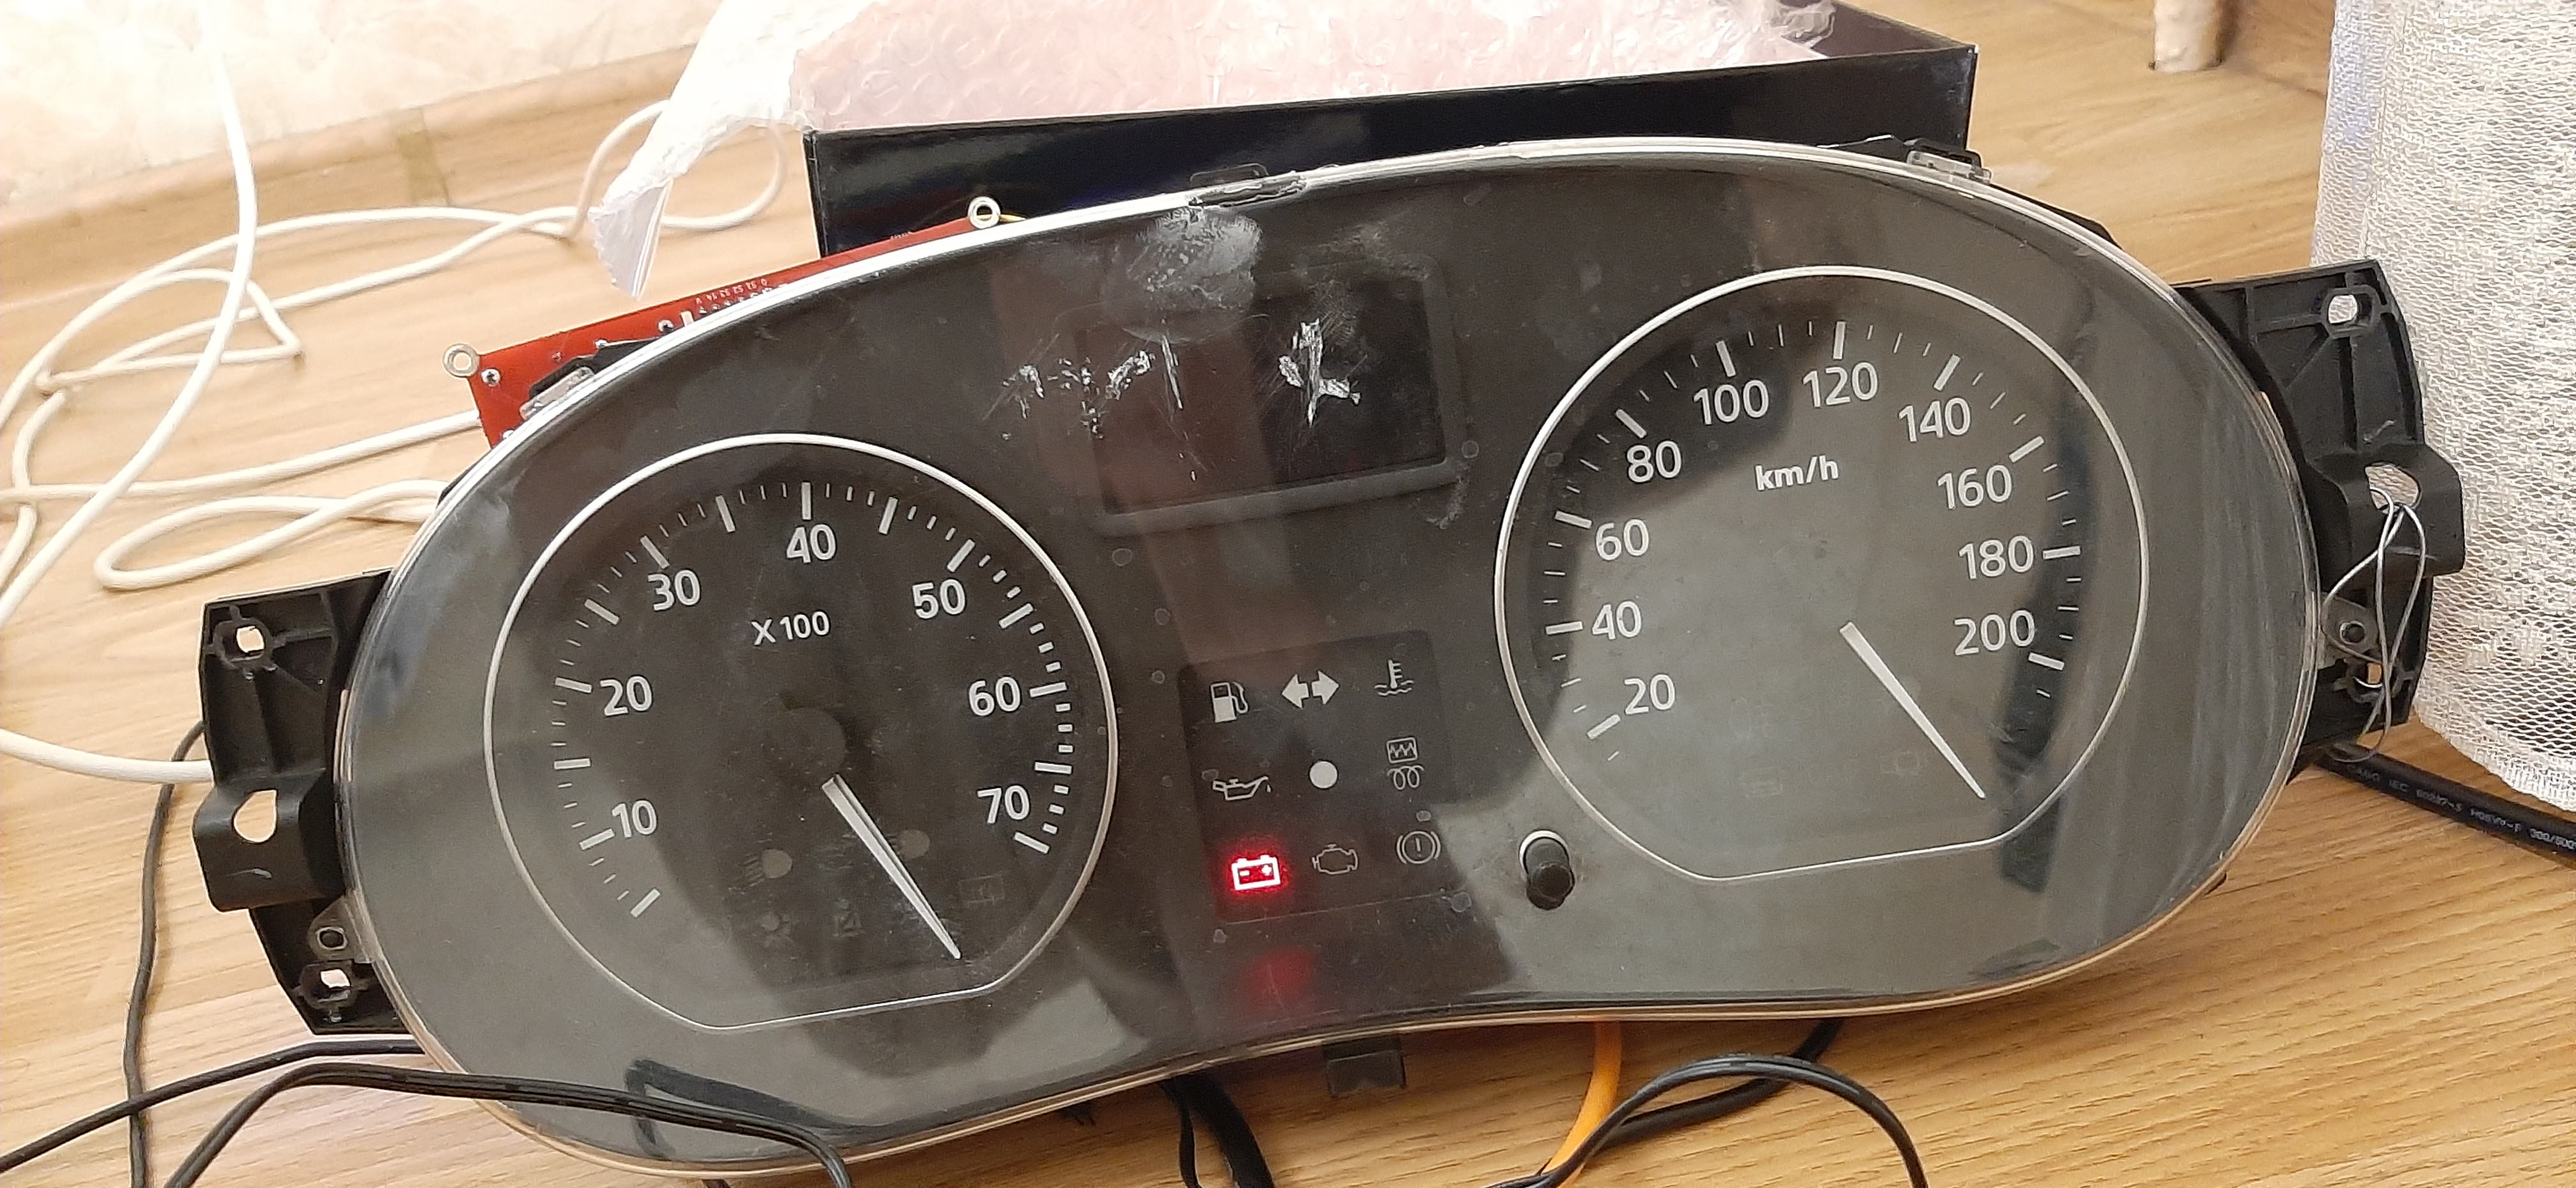accomulator12: (1221, 851, 1291, 894)
